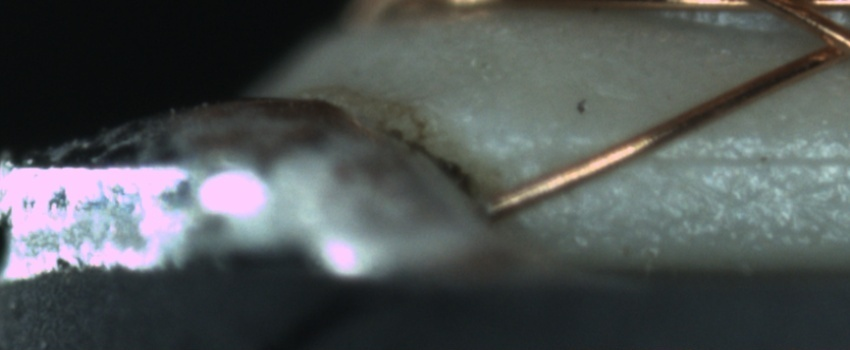CL: (794, 15, 850, 72)
DL: (567, 123, 848, 190)
